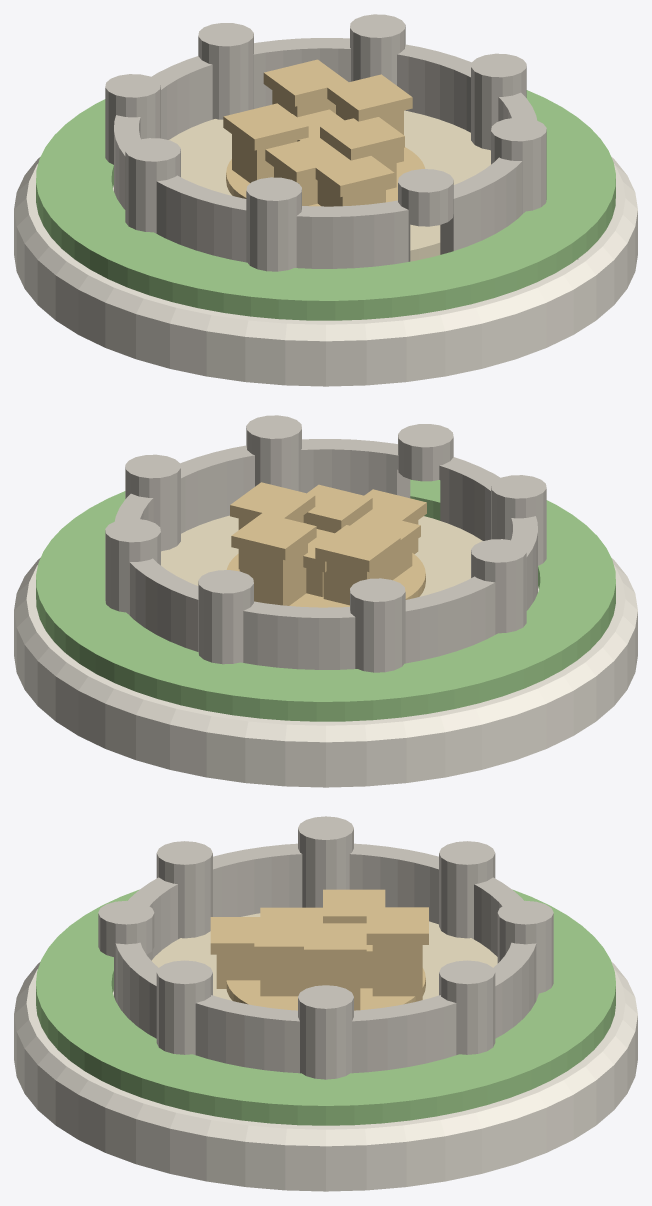
The model's file is masei.glb.
3 renders of one model, top to bottom at view 1: azimuth 30°, elevation 25°; view 2: azimuth 150°, elevation 25°; view 3: azimuth 270°, elevation 25°, orthographic.
Visible parts, largest first — view 1: wall, stage, migrash, houses, open-ground; view 2: wall, migrash, stage, houses, open-ground; view 3: wall, stage, migrash, houses, open-ground.
Boxes of the visible parts, x1,y1,x2,y2 form: wall: (105,14,546,271); stage: (14,156,637,386); migrash: (36,90,615,320); houses: (223,59,425,206); open-ground: (169,110,490,261); wall: (105,415,546,672); migrash: (36,479,615,721); stage: (14,557,637,787); houses: (226,482,426,607); open-ground: (161,515,482,596); wall: (98,816,553,1079); stage: (14,962,637,1191); migrash: (36,889,615,1125); houses: (210,889,428,1010); open-ground: (151,913,497,1000).
Bounding box in the file's own units: 40 × 10.4 × 40.
